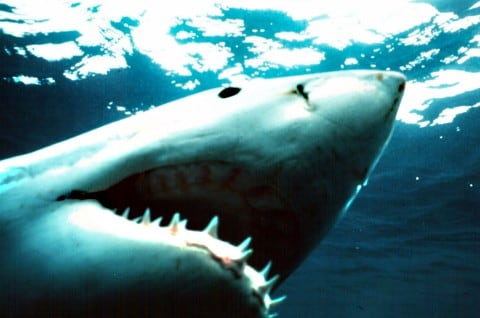shark: (1, 70, 430, 318)
